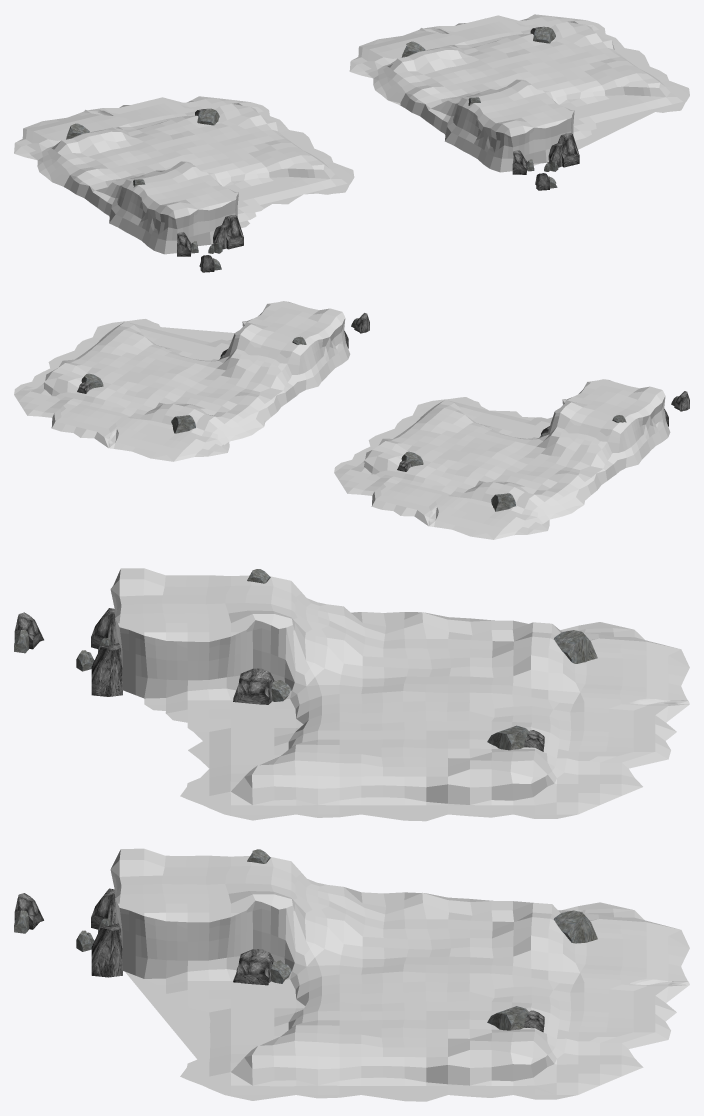
Rendered from island (1).fbx.
3 renders of one model, top to bottom at view 1: azimuth 30°, elevation 25°; view 2: azimuth 150°, elevation 25°; view 3: azimuth 270°, elevation 25°, orthographic. The views are drawn at different scales.
Visible parts, largest first — view 1: Grasstexture.001, Grasstexture, Cube; view 2: Grasstexture.001, Grasstexture; view 3: Grasstexture.001, Grasstexture, Cube, Cube.010, Cube.012.
Part boxes in pixels (bbox=[...]): Grasstexture.001: bbox=[14, 96, 354, 272]; Grasstexture: bbox=[349, 14, 689, 172]; Cube: bbox=[558, 133, 579, 167]; Grasstexture.001: bbox=[334, 379, 689, 539]; Grasstexture: bbox=[14, 301, 350, 461]; Grasstexture.001: bbox=[14, 568, 689, 821]; Grasstexture: bbox=[110, 848, 689, 1101]; Cube: bbox=[91, 923, 122, 977]; Cube.010: bbox=[233, 949, 274, 985]; Cube.012: bbox=[554, 910, 597, 943].
Bounding box in the file's own units: 26153 × 1971 × 15570.
